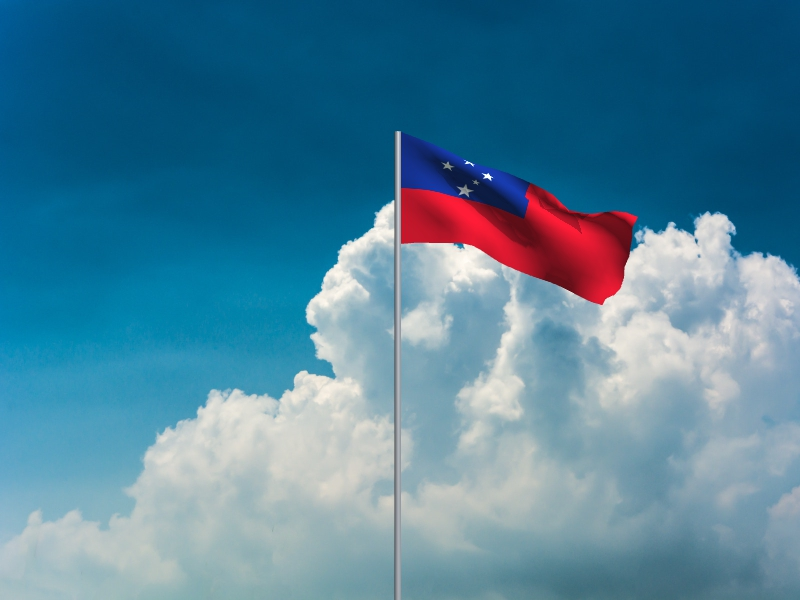ws: (402, 134, 639, 306)
